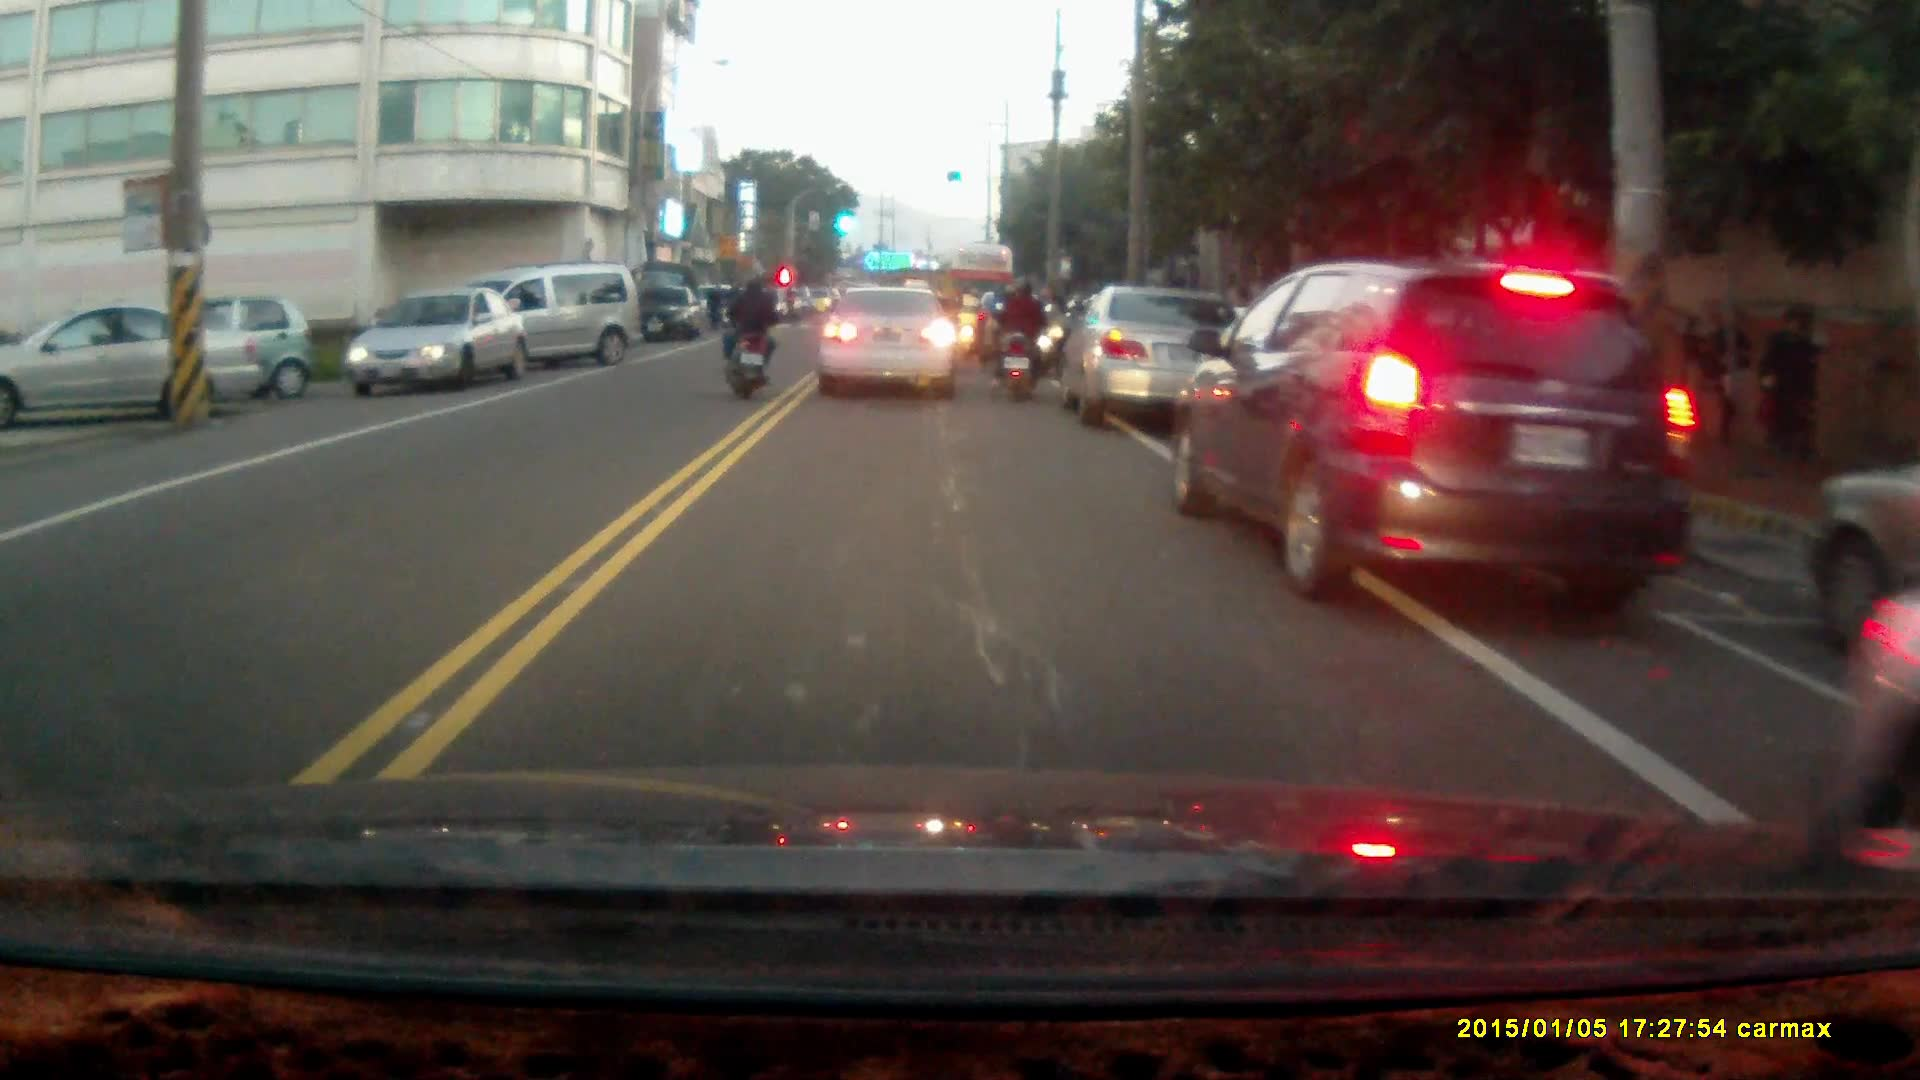pedestrian: (1754, 304, 1811, 470), (1704, 305, 1756, 460)
rider: (989, 270, 1053, 403), (718, 274, 779, 398)
vehicle: (1169, 259, 1713, 605), (1, 304, 268, 425), (1054, 283, 1249, 424), (83, 295, 308, 406), (437, 263, 642, 380), (348, 288, 529, 396), (813, 286, 963, 399), (633, 287, 697, 346)
